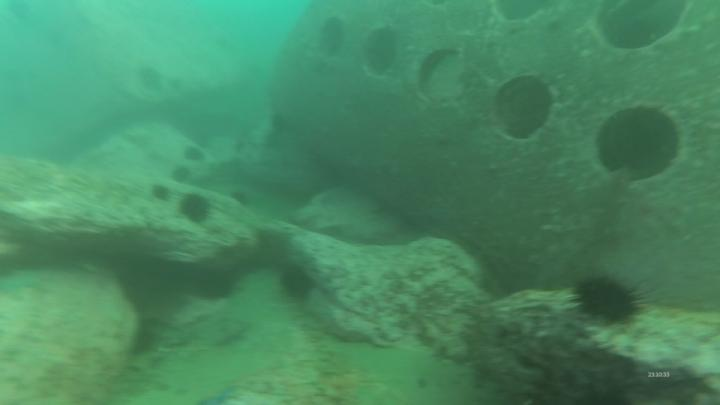echinus: (574, 273, 637, 331), (176, 189, 217, 227), (280, 265, 319, 302), (181, 140, 211, 166), (171, 163, 196, 185), (151, 182, 173, 205)
